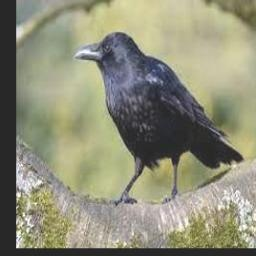Crow: (74, 32, 244, 205)
